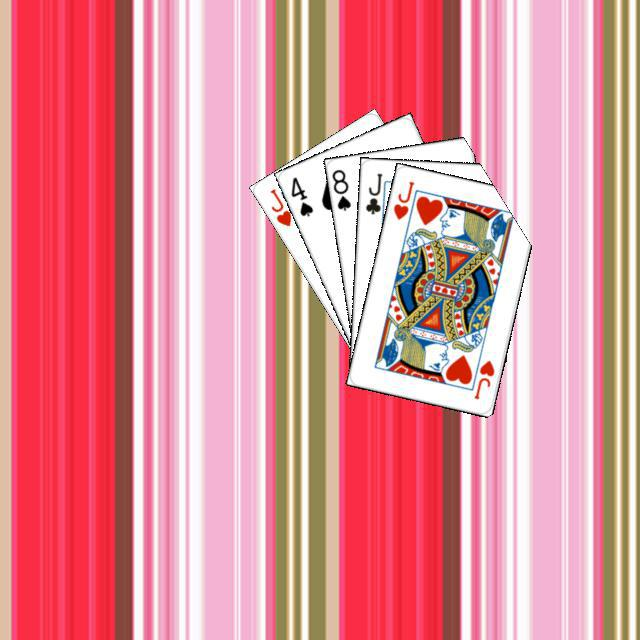4s: (286, 172, 315, 218)
8s: (327, 164, 352, 212)
Jc: (360, 168, 384, 216)
Jh: (388, 176, 416, 222), (469, 355, 496, 401), (265, 184, 293, 228)
